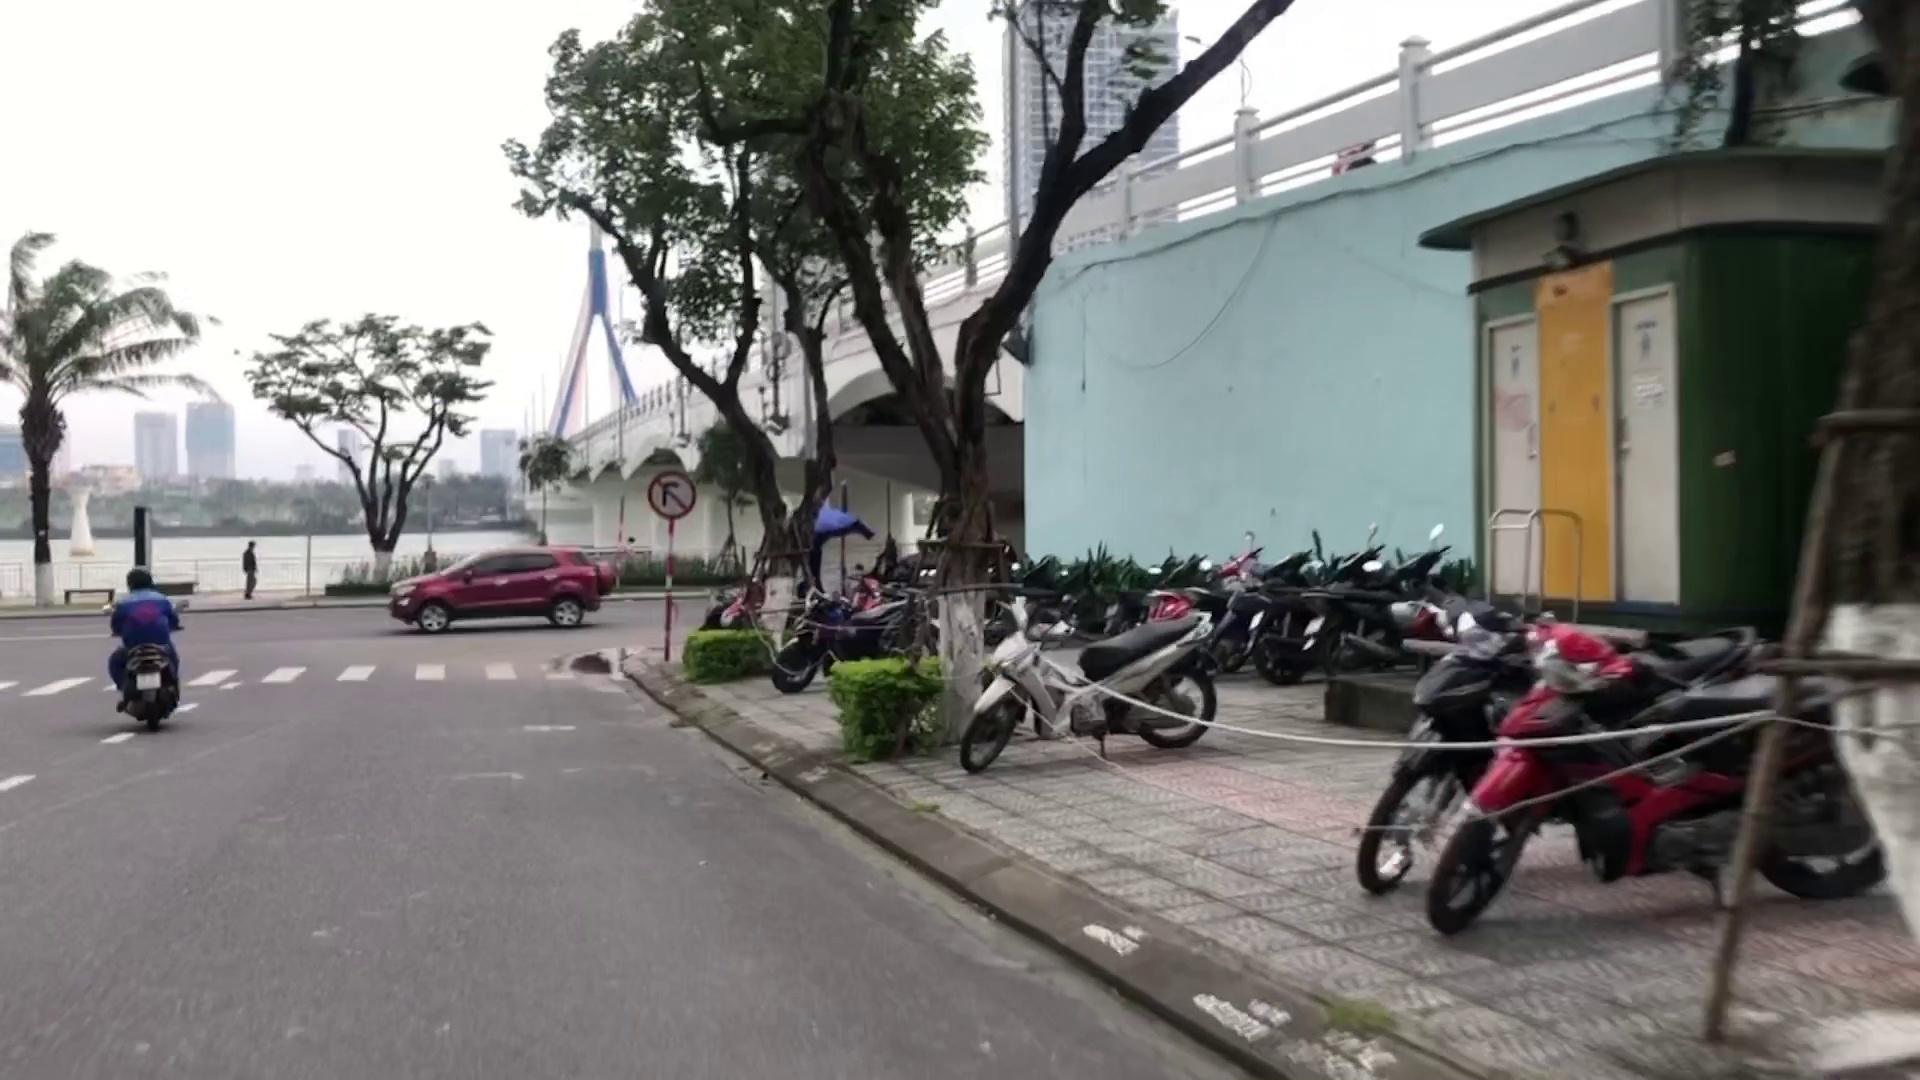Bien khac: (644, 465, 695, 520)
